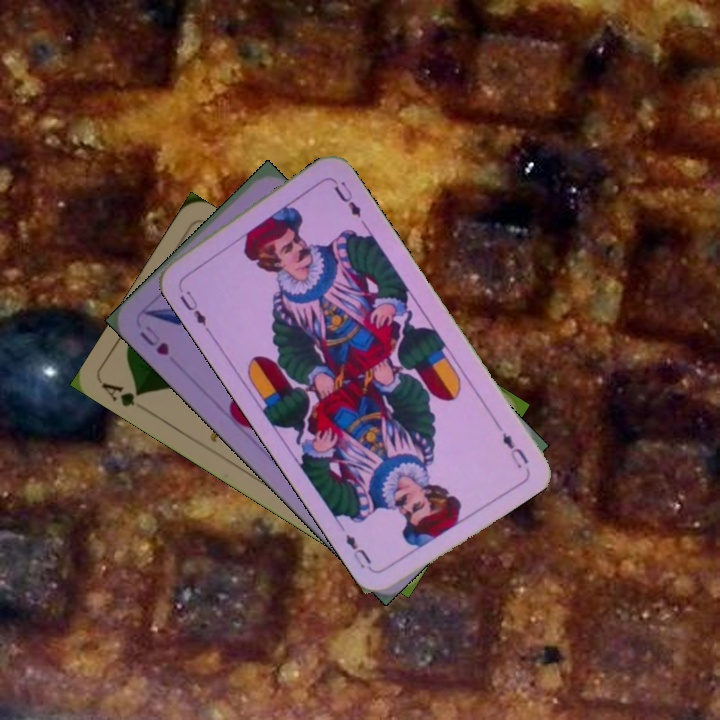EU: (175, 286, 209, 329), (498, 429, 532, 472)
GA: (98, 379, 145, 410)
HU: (135, 321, 172, 358)
